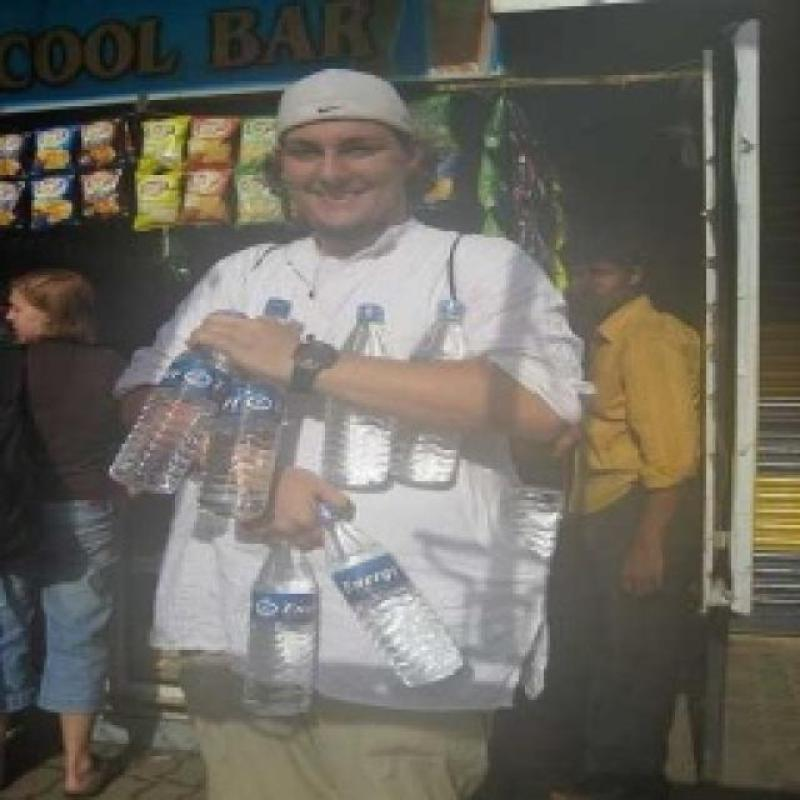botella: (314, 494, 468, 691), (108, 310, 227, 500), (202, 301, 296, 524), (250, 528, 325, 722), (328, 300, 397, 490), (400, 299, 466, 486), (501, 483, 565, 562)
